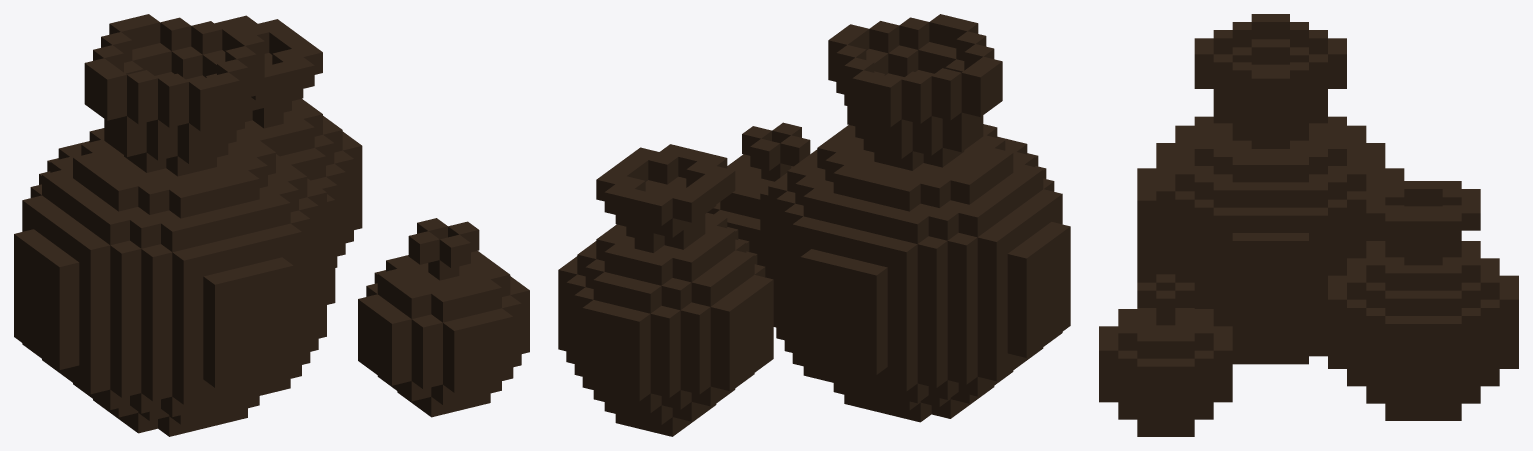
Rendered from Background_B_deco_04.FBX.
3 views of the same model, side by side, from view 1: azimuth 30°, elevation 25°; view 2: azimuth 150°, elevation 25°; view 3: azimuth 270°, elevation 25° (orthographic). The views are drawn at different scales.
Parts seen in each view (by area): view 1: untitled-6; view 2: untitled-6; view 3: untitled-6.
Boxes of the visible parts, x1=… form: untitled-6: x1=14, y1=14, x2=529, y2=436; untitled-6: x1=558, y1=14, x2=1070, y2=436; untitled-6: x1=1099, y1=14, x2=1518, y2=436.
Size of the model in its own units: 2.1 by 1.7 by 2.2.
1 material, 1 textured.
